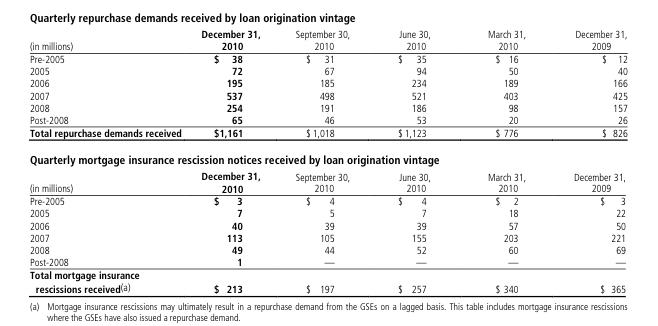table: (28, 29, 626, 294)
table column: (28, 29, 190, 294), (277, 29, 373, 294), (458, 29, 549, 294), (190, 29, 277, 294), (373, 29, 458, 294), (549, 29, 626, 294)
table column header: (28, 29, 626, 52)
table projected row header: (28, 145, 626, 168)
table row: (28, 268, 626, 294), (28, 29, 626, 52), (28, 145, 626, 168), (28, 126, 626, 145), (28, 168, 626, 182), (28, 52, 626, 65), (28, 113, 626, 126), (28, 194, 626, 207), (28, 243, 626, 256), (28, 65, 626, 77), (28, 77, 626, 89), (28, 89, 626, 101), (28, 101, 626, 113), (28, 182, 626, 194), (28, 207, 626, 219), (28, 219, 626, 231), (28, 231, 626, 243), (28, 256, 626, 268)
